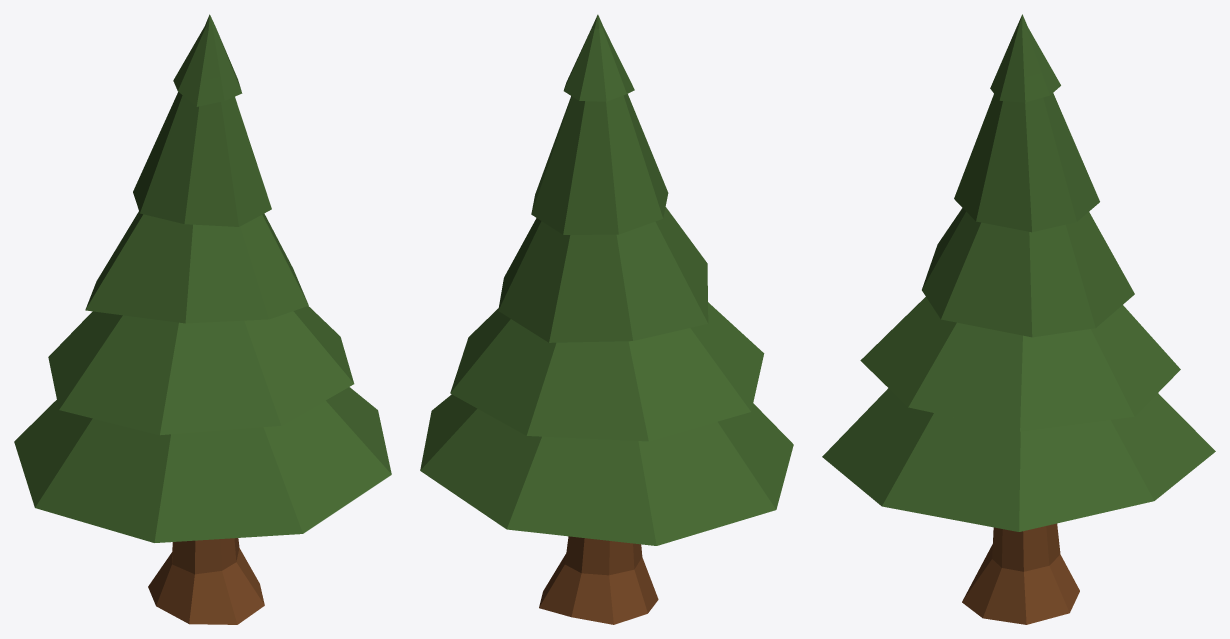
Rendered from NO SNOW TREE 1.fbx.
The picture shows the model from 3 angles, left to right: view 1: azimuth 30°, elevation 25°; view 2: azimuth 150°, elevation 25°; view 3: azimuth 270°, elevation 25°; orthographic projection.
Visible parts, largest first — view 1: NO SNOW PINE TREE 1; view 2: NO SNOW PINE TREE 1; view 3: NO SNOW PINE TREE 1.
Boxes of the visible parts, x1,y1,x2,y2 form: NO SNOW PINE TREE 1: (14,14,391,624); NO SNOW PINE TREE 1: (420,14,793,624); NO SNOW PINE TREE 1: (822,14,1215,624).
Size of the model in its own units: 600 by 985 by 597.
